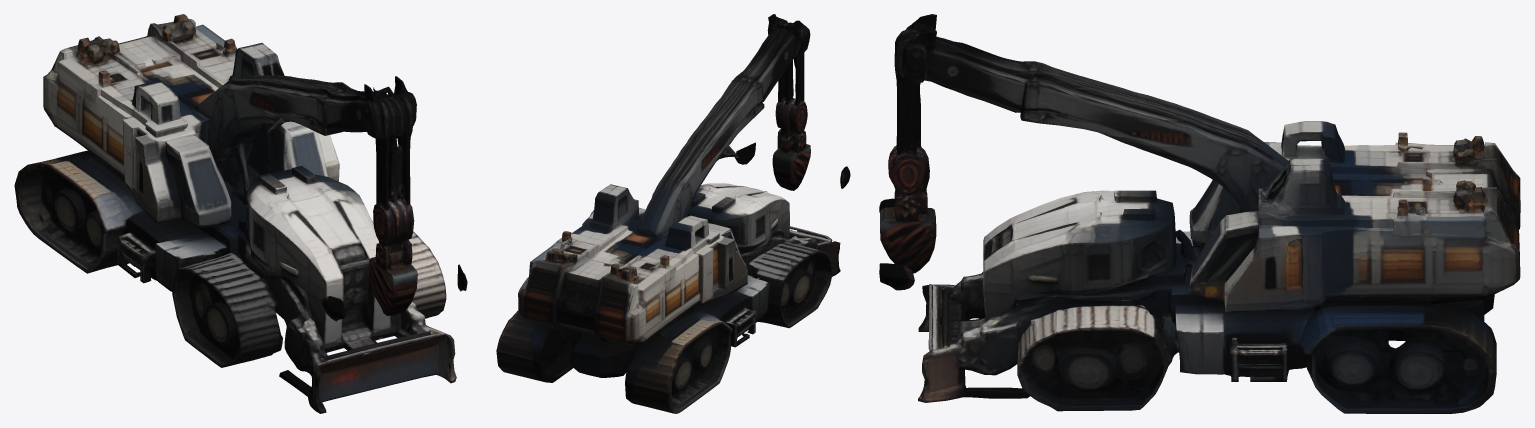
File: a_mobile_construction_vehicle_center_in_phong_5.glb
The picture shows the model from 3 angles, left to right: view 1: azimuth 30°, elevation 25°; view 2: azimuth 150°, elevation 25°; view 3: azimuth 270°, elevation 25°; orthographic projection. The views are drawn at different scales.
Parts seen in each view (by area): view 1: world; view 2: world; view 3: world.
Boxes of the visible parts, <box> form: world: <box>14,14,467,413</box>; world: <box>496,14,850,413</box>; world: <box>879,14,1520,413</box>.
Bounding box in the file's own units: 0.4388 × 0.595 × 1.
Materials: 1 (1 with a texture image).
